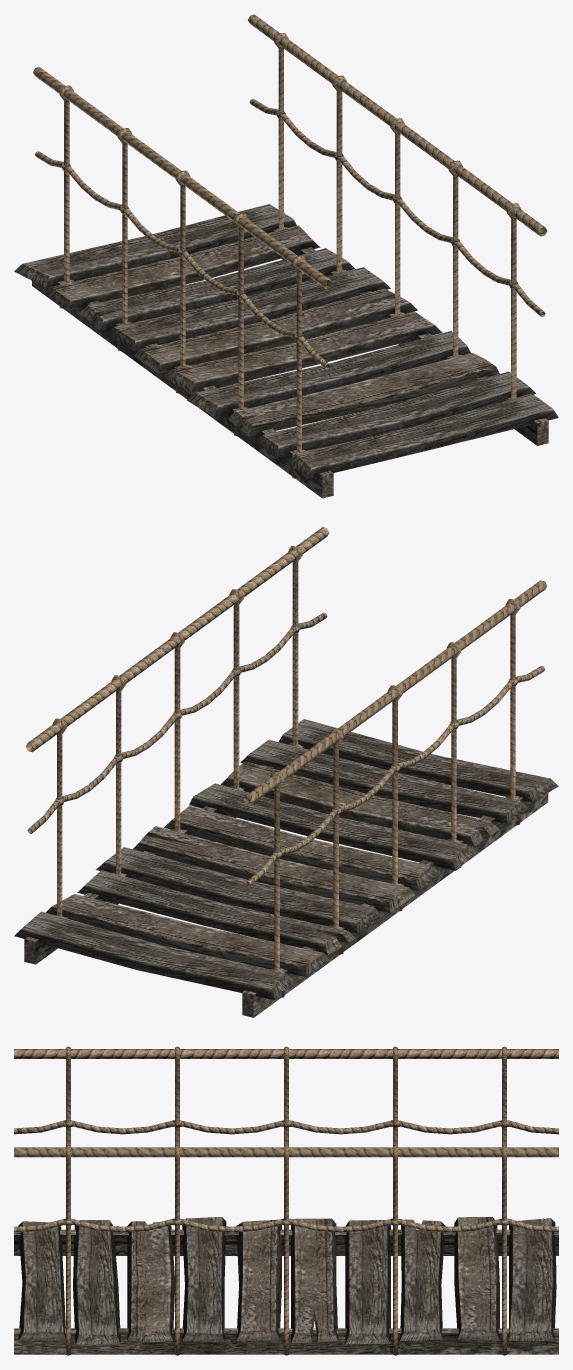
Rendered from RopeBridgeCrown.dae.
3 renders of one model, top to bottom at view 1: azimuth 30°, elevation 25°; view 2: azimuth 150°, elevation 25°; view 3: azimuth 270°, elevation 25°, orthographic. The views are drawn at different scales.
Visible parts, largest first — view 1: RopeBridge; view 2: RopeBridge; view 3: RopeBridge.
Part boxes in pixels (bbox=[...]): RopeBridge: bbox=[14, 14, 558, 498]; RopeBridge: bbox=[14, 527, 558, 1017]; RopeBridge: bbox=[14, 1046, 558, 1355].
Size of what is drawn, in the model's own units: 2.14 by 1.69 by 4.
1 material, 1 textured.
